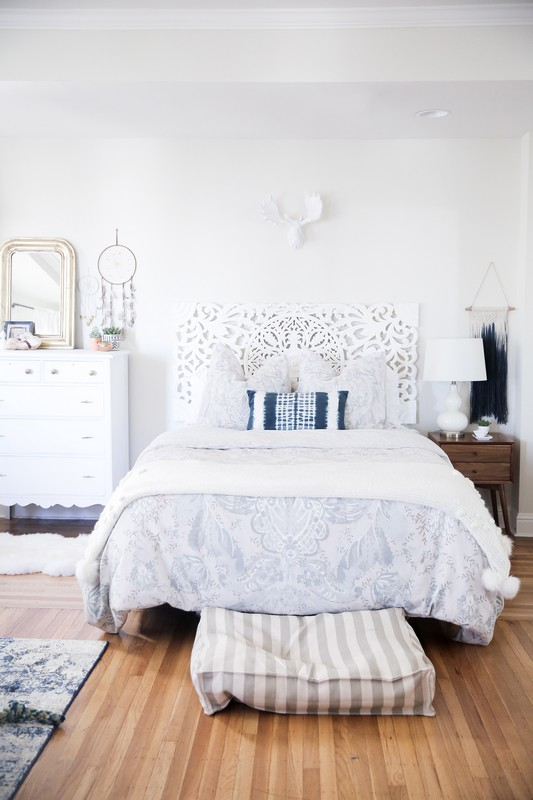lamp: (428, 333, 486, 441)
stool: (72, 302, 518, 648)
table: (424, 429, 522, 534)
